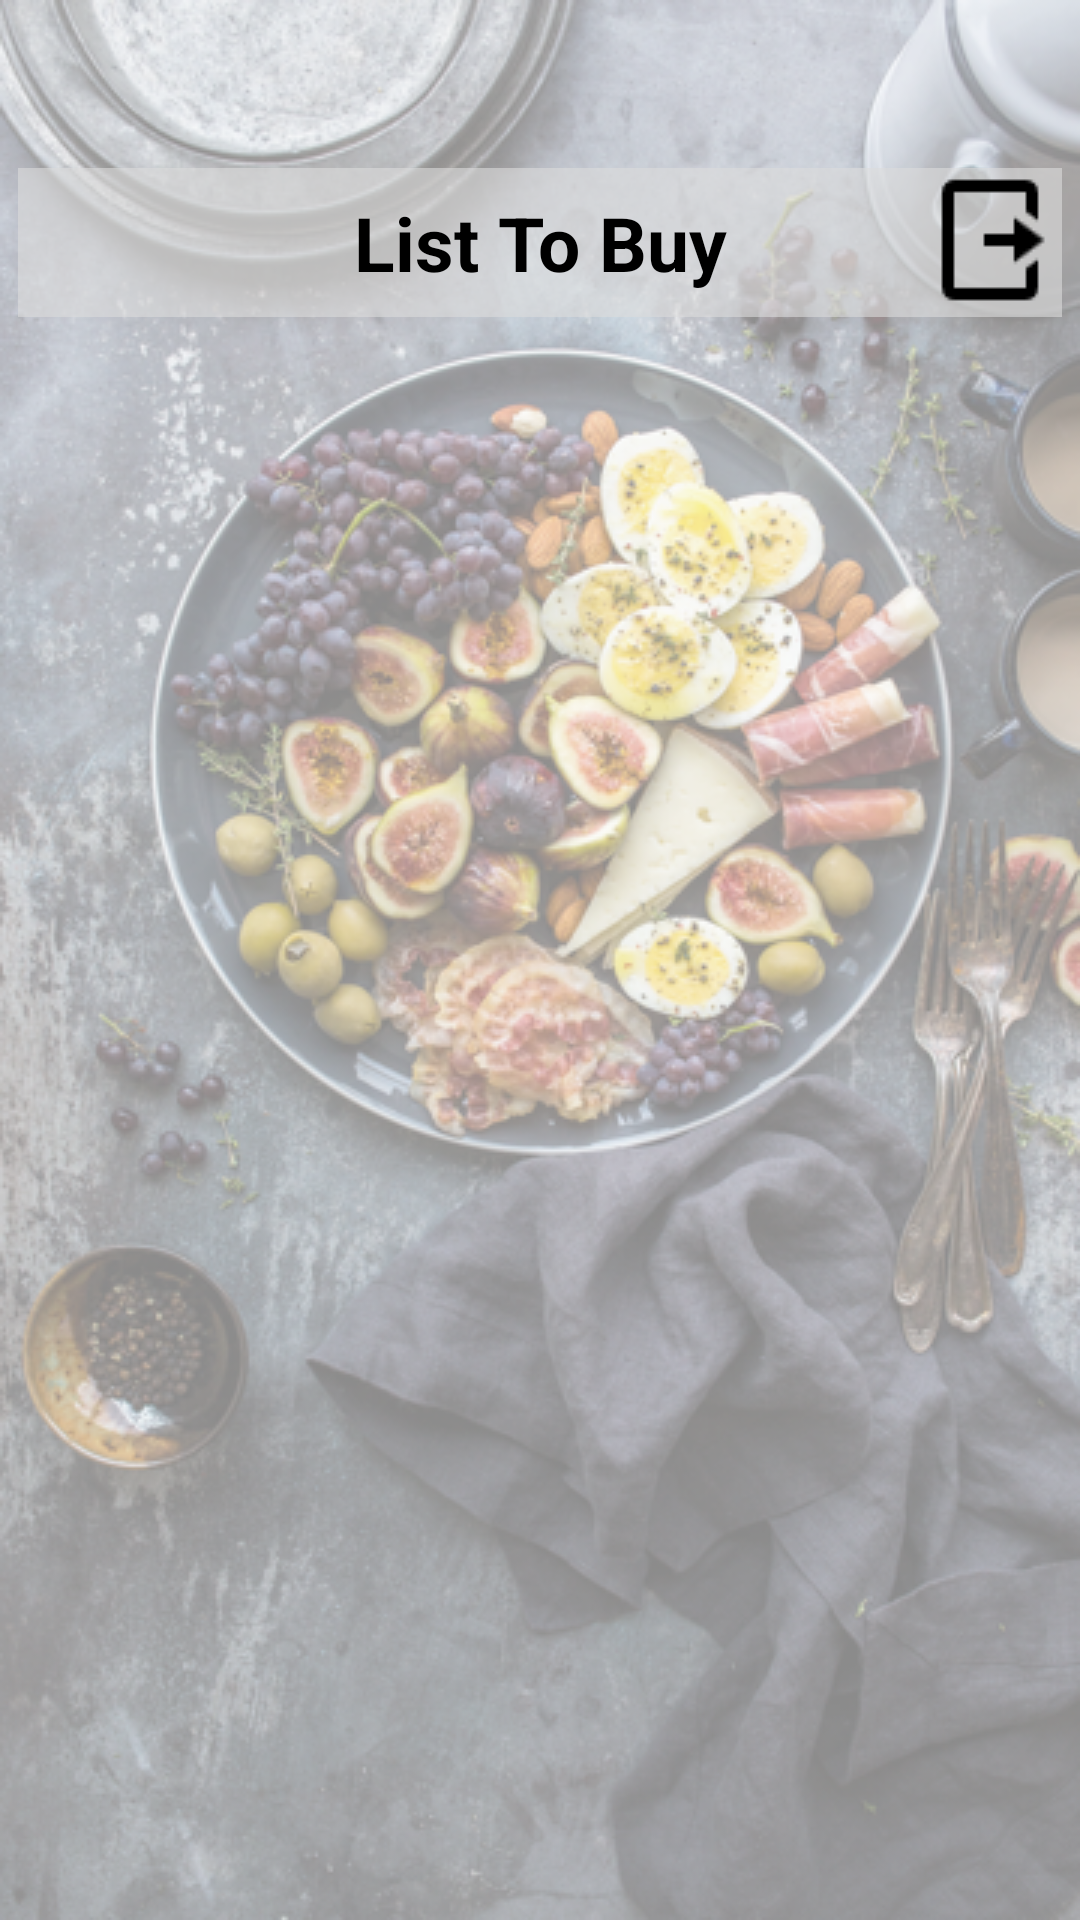

Point at icon controls on the screen. Image size 1080x1920, points as (x=x, y=y).
cart close: (x=989, y=238)
